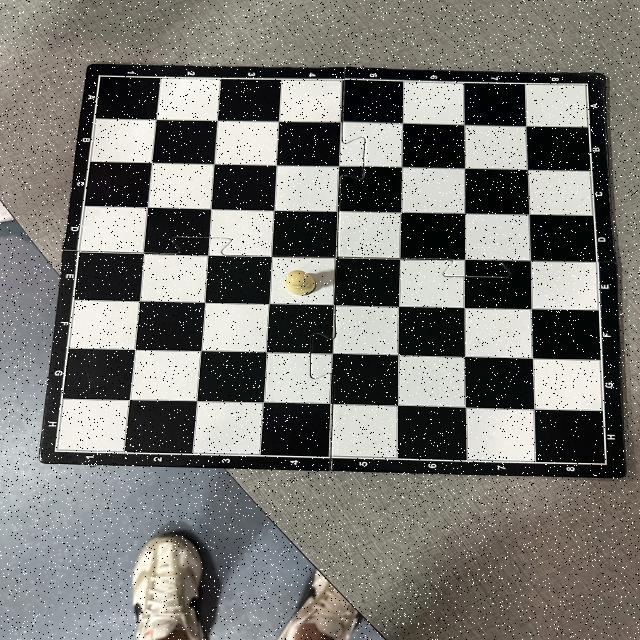White-Pawn: (286, 270, 316, 296)
